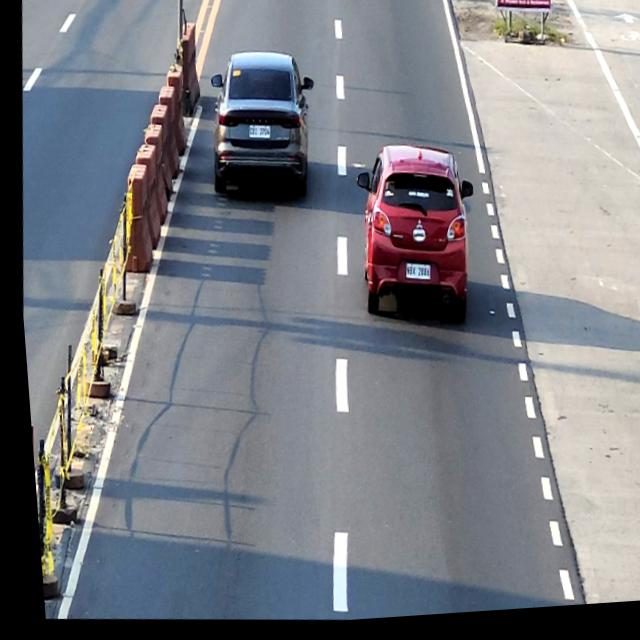Car: (342, 140, 481, 333), (199, 49, 320, 211)
License-Plate: (401, 268, 427, 286), (246, 126, 268, 142)
